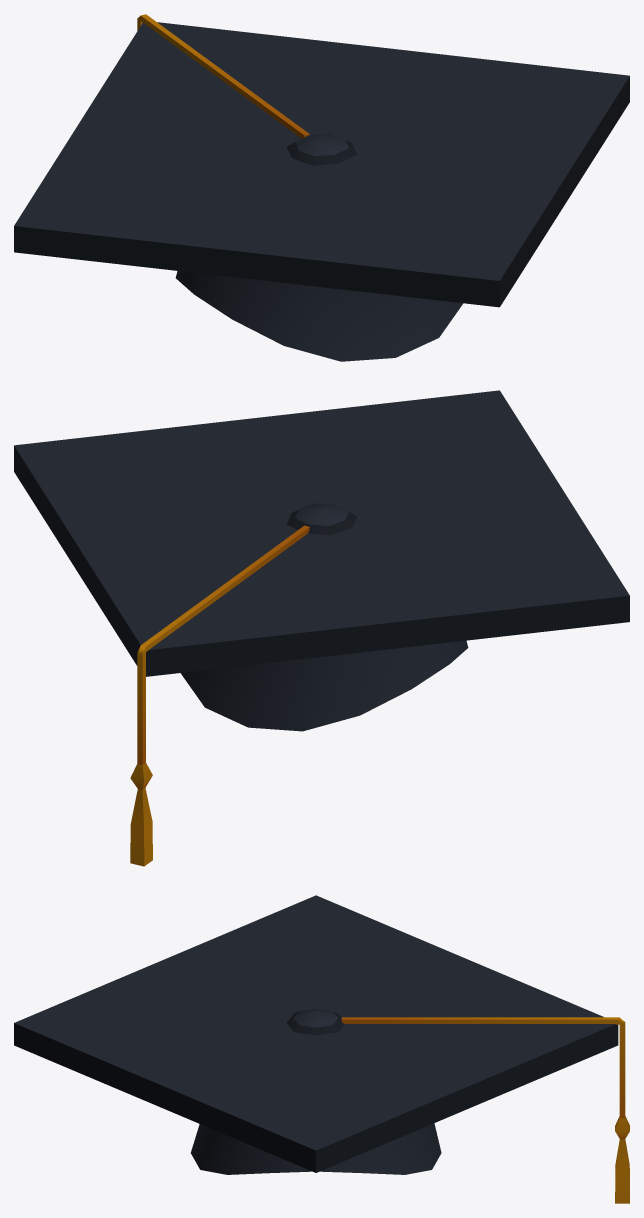
File: human-clothing-graduation-cap_v1.glb
The picture shows the model from 3 angles, top to bottom: view 1: azimuth 30°, elevation 25°; view 2: azimuth 150°, elevation 25°; view 3: azimuth 270°, elevation 25°; orthographic projection. The views are drawn at different scales.
Visible parts, largest first — view 1: Graduation Cap; view 2: Graduation Cap; view 3: Graduation Cap.
Boxes of the visible parts, x1,y1,x2,y2 form: Graduation Cap: (14, 14, 629, 361); Graduation Cap: (14, 390, 629, 866); Graduation Cap: (14, 895, 629, 1203).
Bounding box in the file's own units: 0.2943 × 0.1012 × 0.3.
